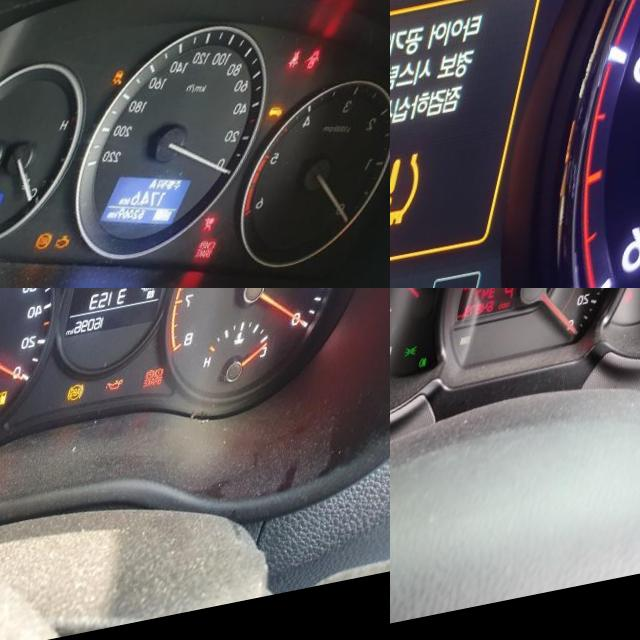Doors: (316, 62, 337, 87)
FrontFogLight: (435, 364, 447, 378)
SideLamp: (422, 353, 436, 365)
